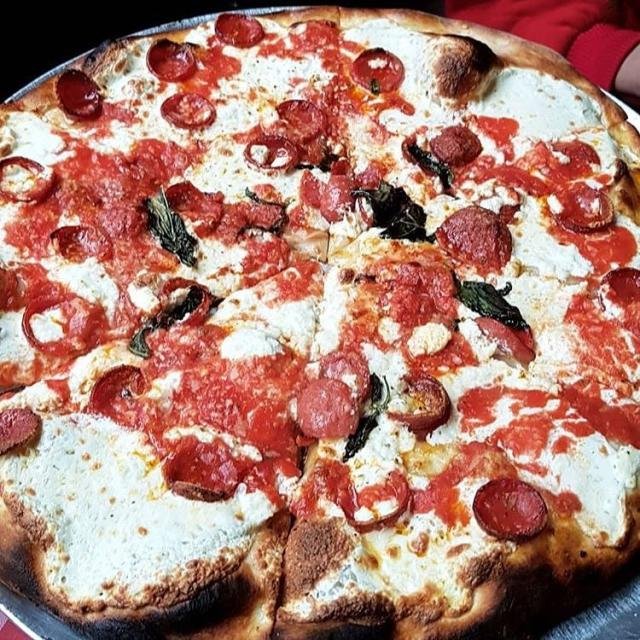pepperoni: (162, 435, 240, 502), (23, 289, 101, 353), (472, 476, 548, 540), (438, 202, 509, 270), (90, 368, 156, 438), (299, 381, 367, 441), (158, 182, 227, 236), (388, 374, 451, 430), (552, 183, 619, 235), (341, 469, 403, 524), (260, 96, 326, 145), (1, 150, 54, 210), (476, 315, 538, 365), (50, 66, 106, 120), (598, 262, 640, 331), (50, 222, 111, 267), (348, 43, 406, 89), (0, 398, 40, 461), (148, 36, 203, 80), (167, 272, 211, 327), (161, 87, 214, 130), (241, 128, 293, 171), (429, 119, 476, 162), (214, 8, 262, 48)
pizza: (0, 7, 640, 640)
